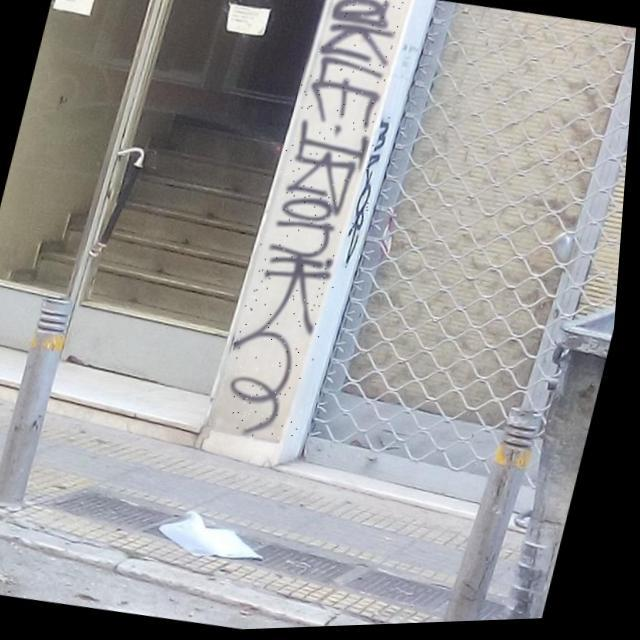-: (220, 0, 406, 447), (344, 116, 395, 272)
